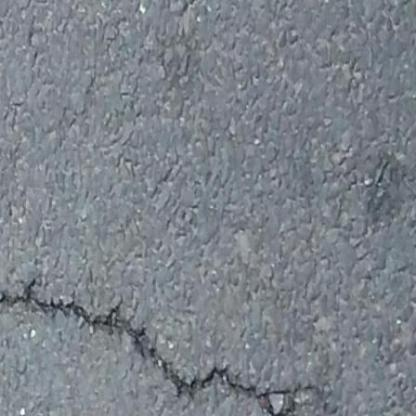Cracks: (2, 272, 343, 416)
